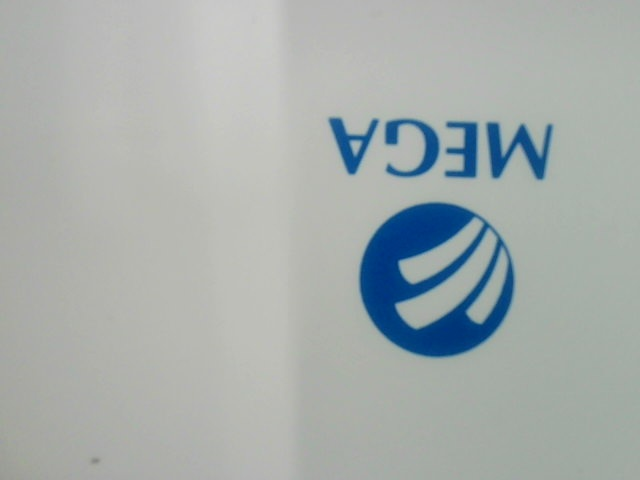AM_ZTEMEGA: (298, 96, 608, 364)
